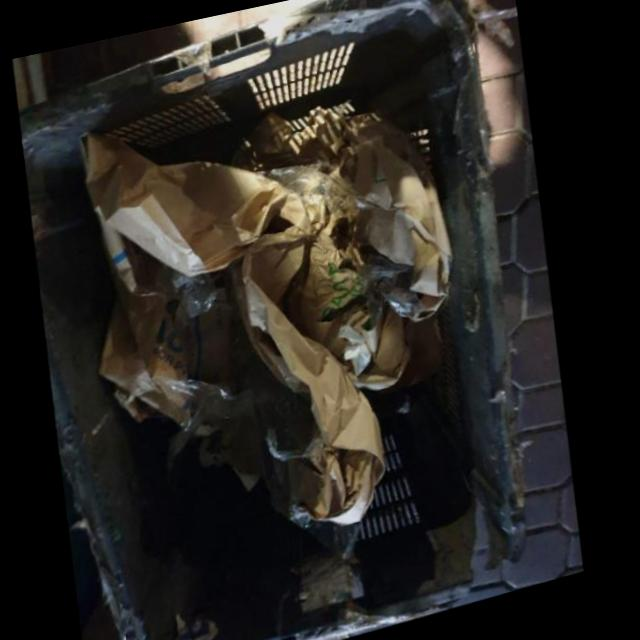giay: (236, 229, 394, 526), (261, 116, 459, 327), (80, 132, 283, 277), (270, 171, 374, 363), (358, 315, 421, 394)
